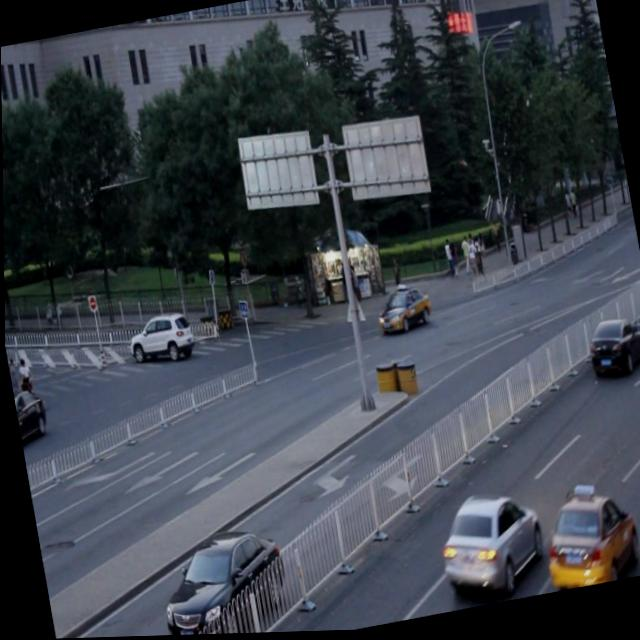car: (150, 526, 292, 637), (432, 483, 550, 609), (537, 480, 640, 596), (125, 311, 196, 369), (583, 316, 640, 383), (372, 285, 434, 336), (11, 381, 50, 449), (53, 621, 140, 639)
